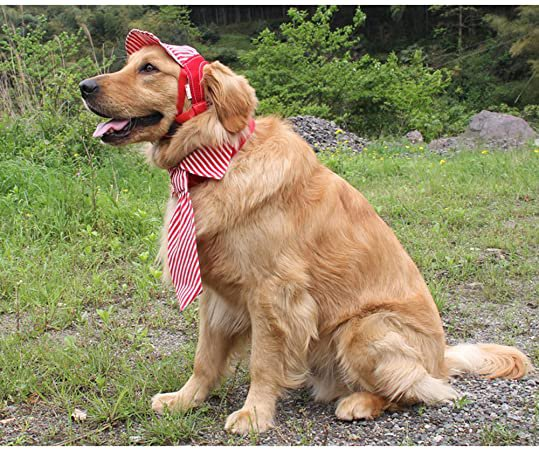dog: (72, 32, 478, 404)
